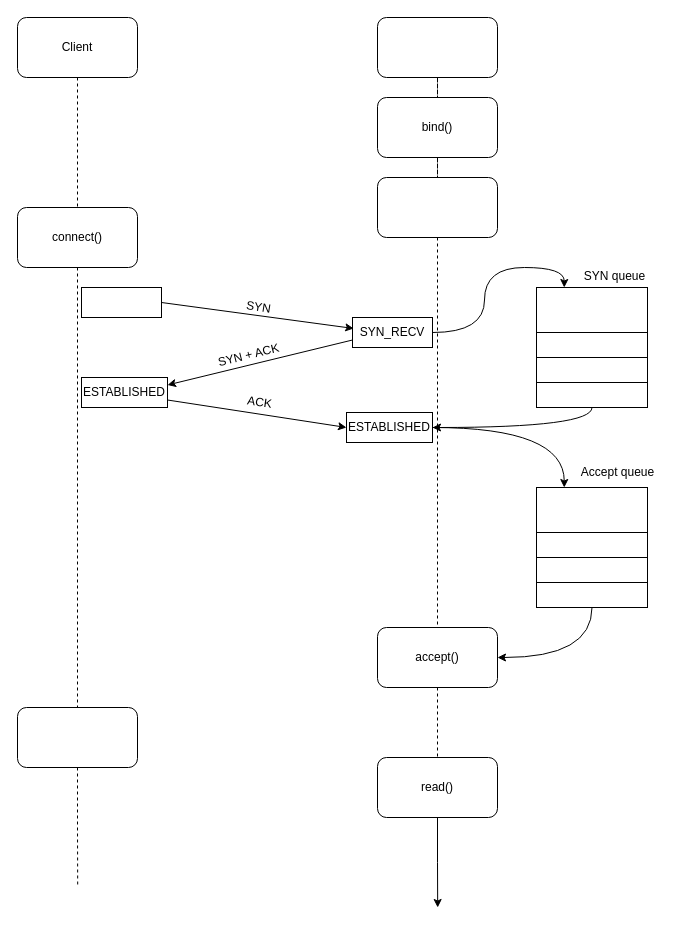
Image size: 685x933. Some labels were removed from this diagram. Each missing label, with the centre of its shape:
"listen()" goes at [437,207].
"Server" goes at [437,47].
"SYN_SENT" goes at [121,302].
"write()" goes at [77,737].
